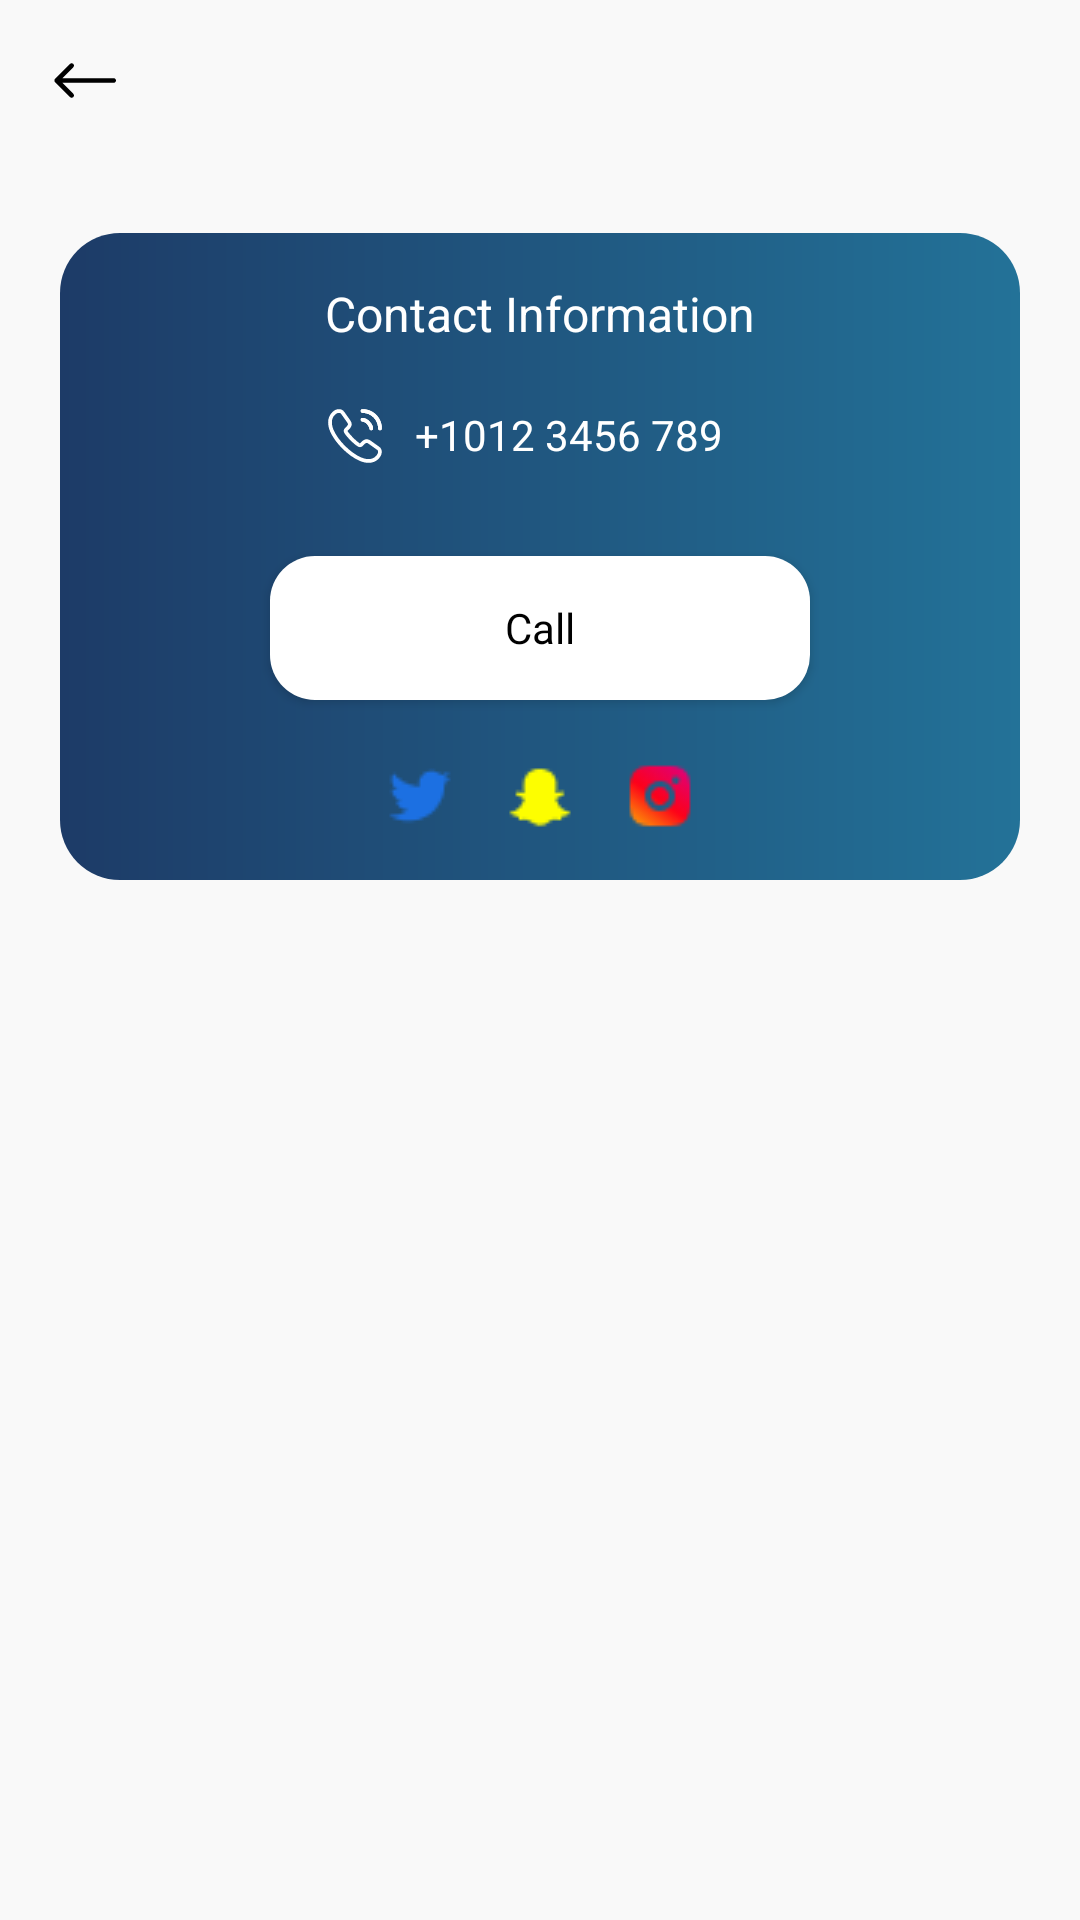

Where icons sit on this 1080 × 1920 app screen, as (x1, y1, x2, y2):
back: (54, 63, 116, 98)
